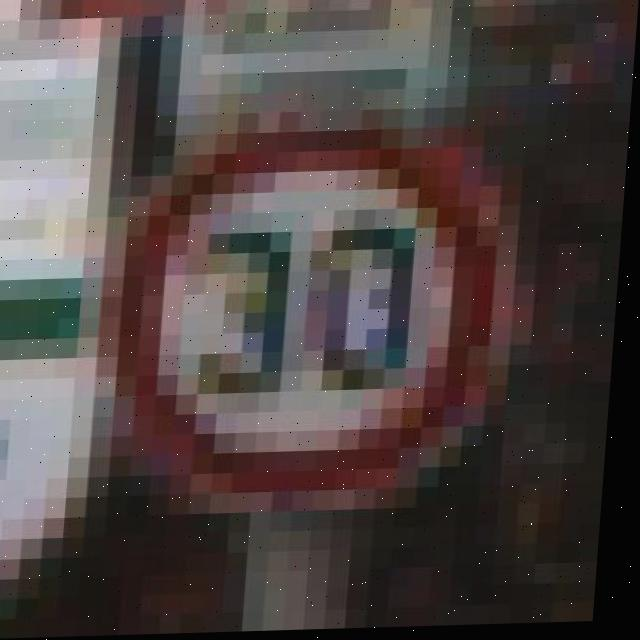Speed limit 30: (111, 98, 530, 516)
